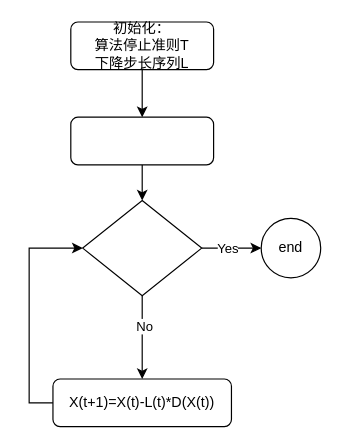
The diagram is 342 pixels wide and 447 high, and some of its shapes have lost their labels. Each missing label, with the centre of its shape:
t<T: the point at 142,247
t=0 初始化：初态X0: the point at 142,140
